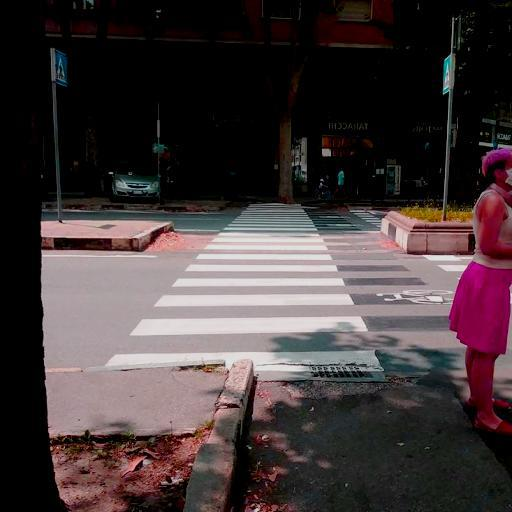crosswalk: (150, 274, 359, 314), (192, 244, 334, 264), (217, 222, 326, 234)
